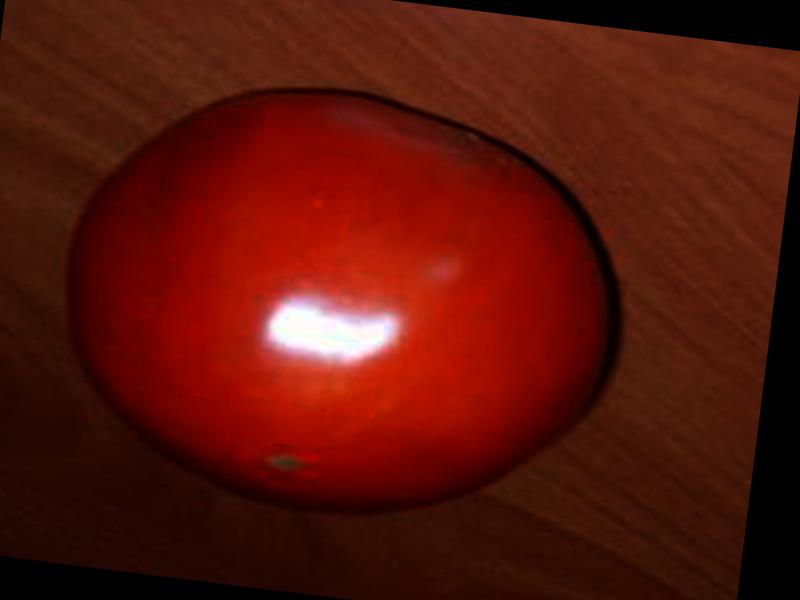Tomato: (35, 63, 643, 548)
